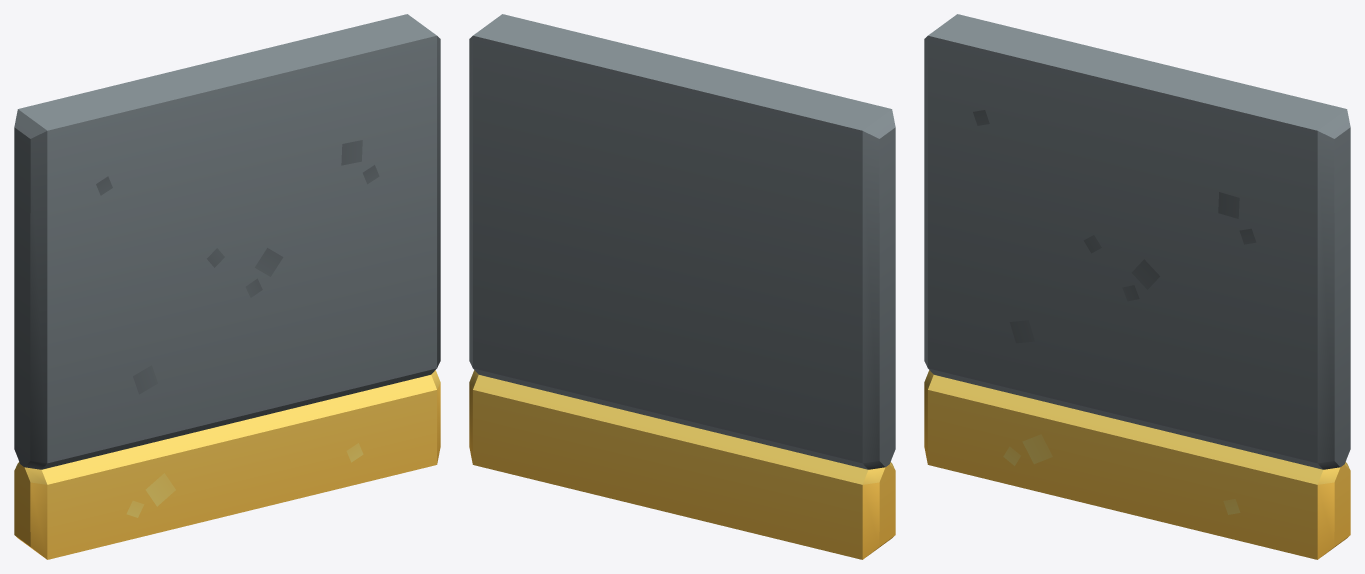
Rendered from wall.glb.
3 renders of one model, left to right at view 1: azimuth 30°, elevation 25°; view 2: azimuth 150°, elevation 25°; view 3: azimuth 330°, elevation 25°, orthographic.
Parts seen in each view (by area): view 1: Wall; view 2: Wall; view 3: Wall.
Part boxes in pixels (x1,y1,x2,y2): Wall: (14, 14, 440, 559); Wall: (469, 14, 895, 559); Wall: (924, 14, 1350, 559).
Size of the model in its own units: 4 by 4 by 0.53.
1 material, 1 textured.
